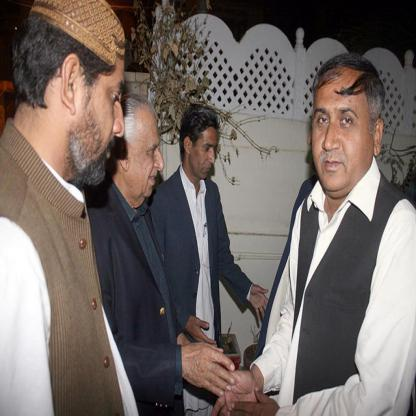face: (79, 8, 125, 180), (314, 74, 370, 193), (133, 107, 164, 196), (197, 118, 219, 181)
